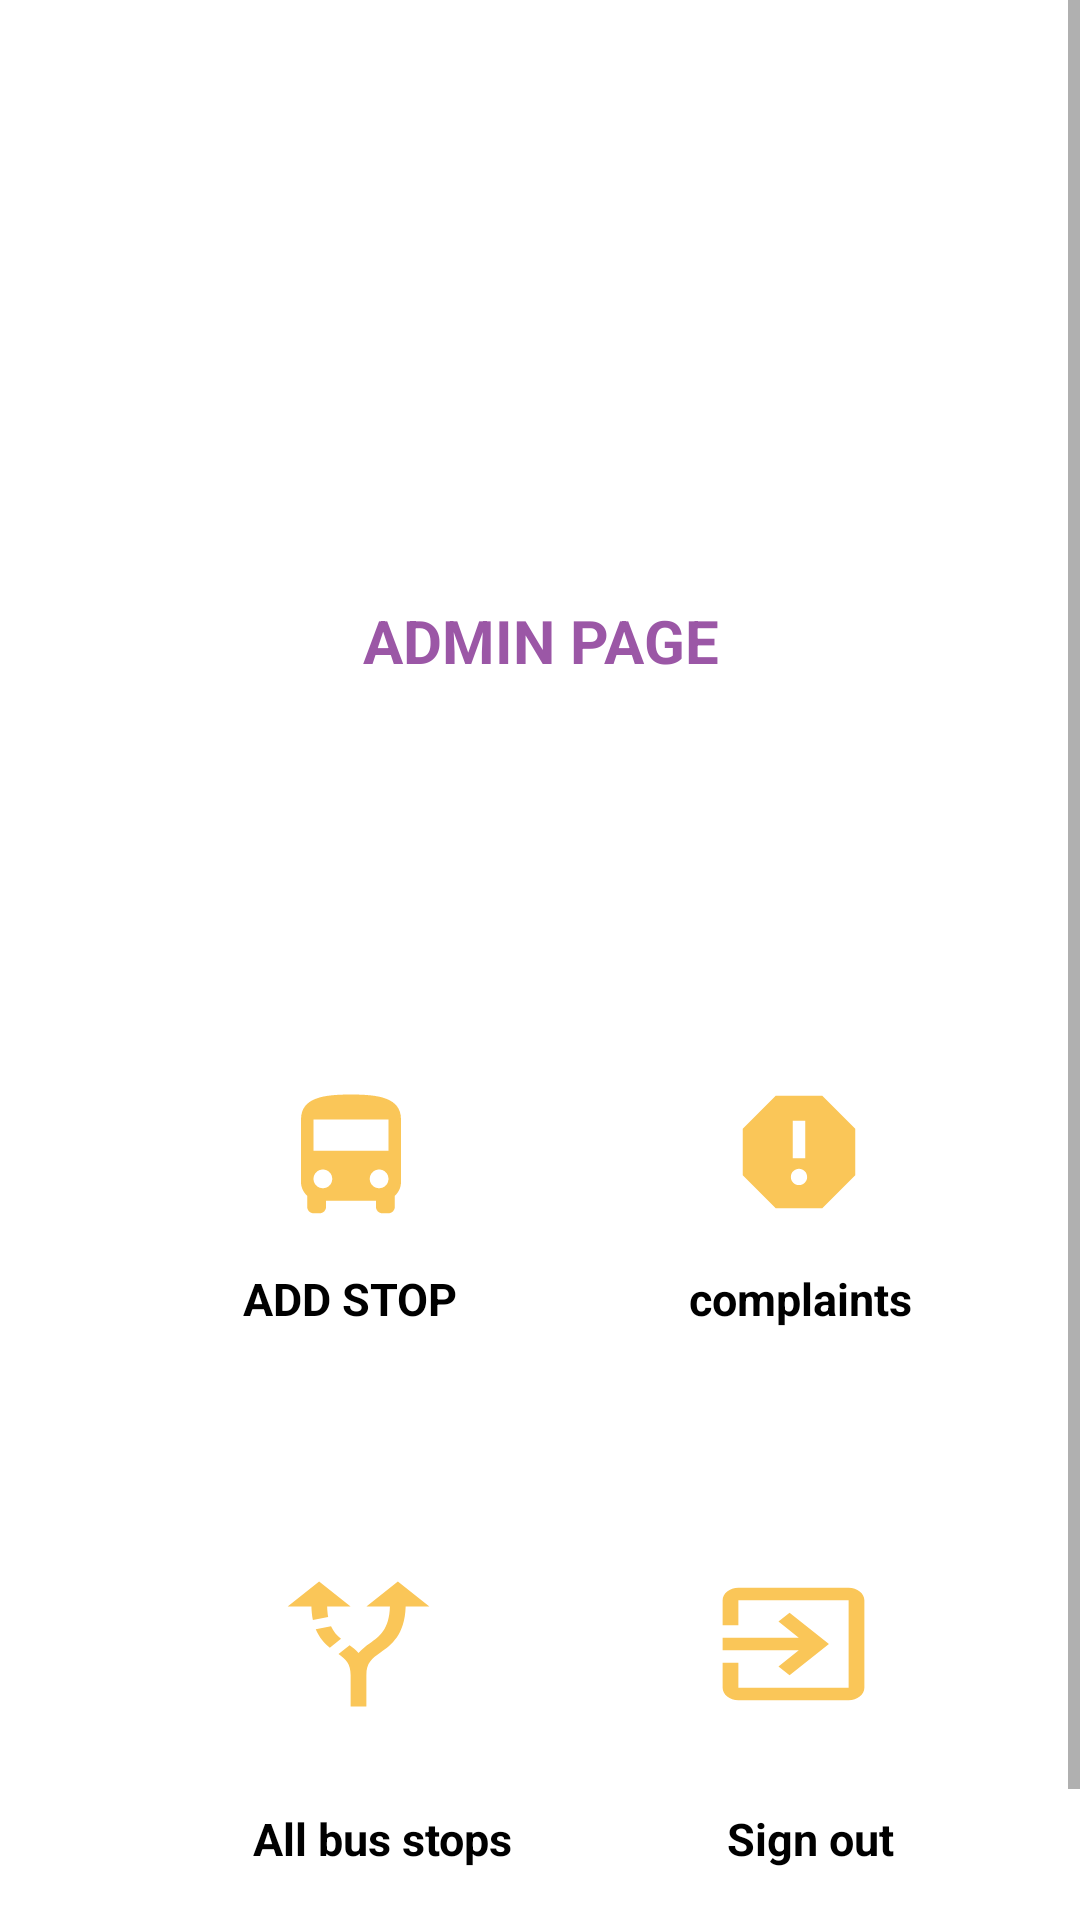

Icons on this 1080px x 1920px Android screen, each with its box as (x1, y1, x2, y2):
bus stop: (301, 1094, 401, 1214)
exit to app: (722, 1587, 865, 1701)
report: (742, 1095, 856, 1209)
route: (288, 1581, 429, 1707)
